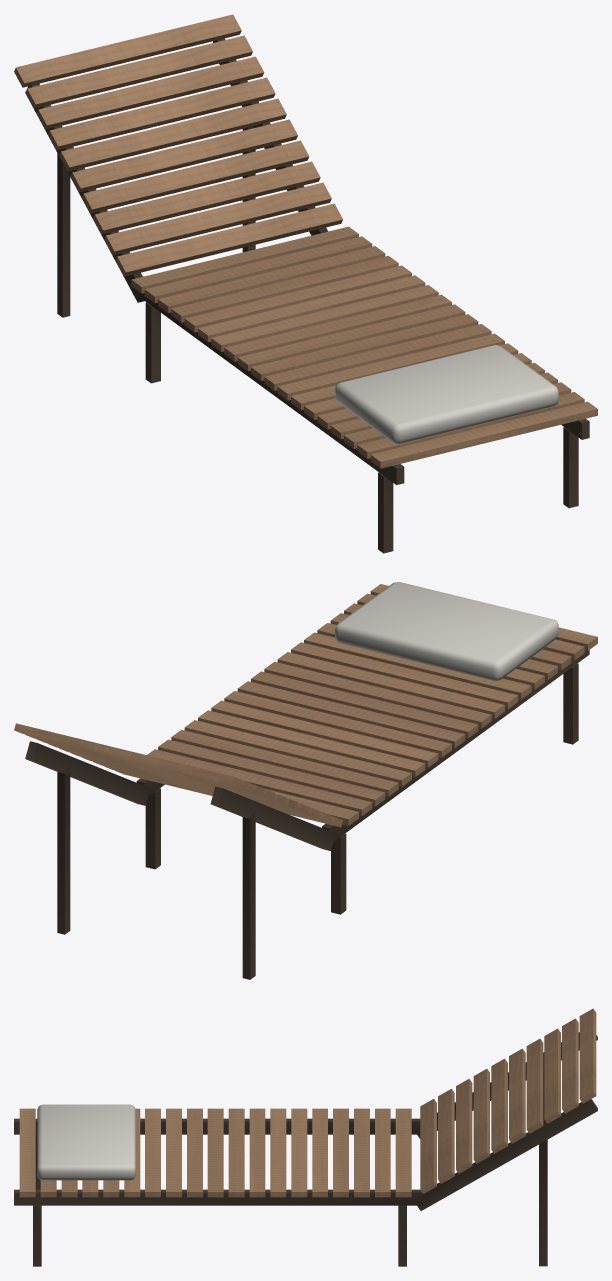
The model's file is ph_lounger.gltf.
3 renders of one model, top to bottom at view 1: azimuth 30°, elevation 25°; view 2: azimuth 150°, elevation 25°; view 3: azimuth 270°, elevation 25°, orthographic. The views are drawn at different scales.
Parts seen in each view (by area): view 1: PHLounger_Back, PHLounger_Seat, PHLounger_Towel, PHLounger_Strut-1, PHLounger_Rail-1, PHLounger, PHLounger_Leg1_-92, PHLounger_Leg-1_-92, PHLounger_BackRail-1; view 2: PHLounger_Seat, PHLounger_Towel, PHLounger_Back, PHLounger_BackRail-1, PHLounger_BackRail1, PHLounger, PHLounger_Strut-1, PHLounger_Strut1, PHLounger_Rail-1, PHLounger_Leg-1_-92; view 3: PHLounger_Seat, PHLounger_Back, PHLounger_Towel, PHLounger_Rail1, PHLounger_BackRail1, PHLounger_Rail-1, PHLounger_Strut1, PHLounger, PHLounger_Leg1_-92.
Boxes of the visible parts, <box> form: PHLounger_Back: <box>14,14,342,276</box>; PHLounger_Seat: <box>131,226,597,468</box>; PHLounger_Towel: <box>335,345,558,443</box>; PHLounger_Strut-1: <box>57,150,70,317</box>; PHLounger_Rail-1: <box>138,276,404,484</box>; PHLounger: <box>145,302,160,383</box>; PHLounger_Leg1_-92: <box>563,427,578,508</box>; PHLounger_Leg-1_-92: <box>378,472,393,553</box>; PHLounger_BackRail-1: <box>25,83,144,302</box>; PHLounger_Seat: <box>147,584,597,825</box>; PHLounger_Towel: <box>335,582,558,680</box>; PHLounger_Back: <box>14,723,342,827</box>; PHLounger_BackRail-1: <box>210,786,335,850</box>; PHLounger_BackRail1: <box>25,741,150,805</box>; PHLounger: <box>145,788,346,914</box>; PHLounger_Strut-1: <box>242,812,255,979</box>; PHLounger_Strut1: <box>57,767,70,934</box>; PHLounger_Rail-1: <box>322,650,589,841</box>; PHLounger_Leg-1_-92: <box>563,663,578,744</box>; PHLounger_Seat: <box>19,1108,411,1197</box>; PHLounger_Back: <box>420,1008,596,1193</box>; PHLounger_Towel: <box>37,1104,135,1180</box>; PHLounger_Rail1: <box>14,1189,422,1205</box>; PHLounger_BackRail1: <box>417,1099,597,1210</box>; PHLounger_Rail-1: <box>14,1118,420,1134</box>; PHLounger_Strut1: <box>539,1140,547,1266</box>; PHLounger: <box>398,1205,406,1266</box>; PHLounger_Leg1_-92: <box>33,1205,41,1266</box>.
Bounding box in the file's own units: 0.68 × 0.6816 × 2.01.
3 materials, 1 textured.
